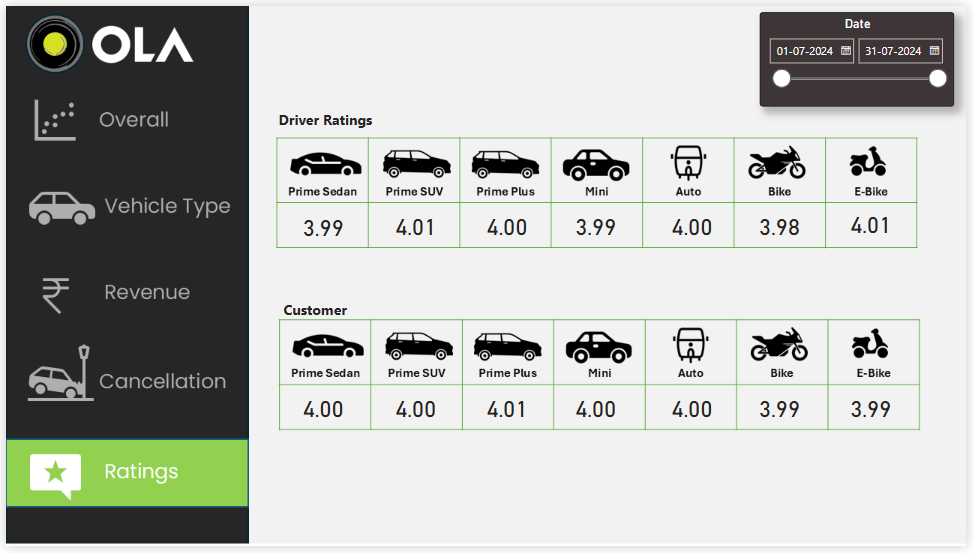

The page's visual inventory and layout, read from the dashboard file:
{"tool":"powerbi","page":{"name":"Ratings","canvas":[1280,720],"ordinal":4},"visuals":[{"type":"actionButton","box":[0,225.6,323.3,91.7],"z":0},{"type":"actionButton","box":[0,108.8,323.8,92.5],"z":1000},{"type":"actionButton","box":[0,340,323.8,92.5],"z":2000},{"type":"actionButton","box":[0,443.8,323.8,92.5],"z":3000},{"type":"card","fields":{"Values":["Avg(July.Driver_Ratings)"]},"box":[377,267.6,93.2,51.4],"z":4000},{"type":"card","fields":{"Values":["Avg(July.Driver_Ratings)"]},"box":[867.6,266.2,93.2,51.4],"z":5000},{"type":"card","fields":{"Values":["Avg(July.Driver_Ratings)"]},"box":[740.5,266.2,93.2,51.4],"z":6000},{"type":"card","fields":{"Values":["Avg(July.Driver_Ratings)"]},"box":[621.6,266.2,93.2,51.4],"z":7000},{"type":"card","fields":{"Values":["Avg(July.Driver_Ratings)"]},"box":[500,266.2,93.2,51.4],"z":8000},{"type":"card","fields":{"Values":["Avg(July.Driver_Ratings)"]},"box":[985.1,266.2,93.2,51.4],"z":9000},{"type":"card","fields":{"Values":["Avg(July.Driver_Ratings)"]},"box":[1106.8,264.9,93.2,51.4],"z":10000},{"type":"textbox","box":[358.1,133.8,177,44.6],"z":11000},{"type":"textbox","box":[364.9,386.5,118.9,39.2],"z":12000},{"type":"card","fields":{"Values":["Avg(July.Customer_Rating)"]},"box":[377,509.5,93.2,51.4],"z":13000},{"type":"card","fields":{"Values":["Avg(July.Customer_Rating)"]},"box":[500,509.5,93.2,51.4],"z":14000},{"type":"card","fields":{"Values":["Avg(July.Customer_Rating)"]},"box":[621.6,509.5,93.2,51.4],"z":15000},{"type":"card","fields":{"Values":["Avg(July.Customer_Rating)"]},"box":[740.5,509.5,93.2,51.4],"z":15001},{"type":"card","fields":{"Values":["Avg(July.Customer_Rating)"]},"box":[867.6,509.5,93.2,51.4],"z":15002},{"type":"card","fields":{"Values":["Avg(July.Customer_Rating)"]},"box":[985.1,509.5,93.2,51.4],"z":15003},{"type":"card","fields":{"Values":["Avg(July.Customer_Rating)"]},"box":[1106.8,509.5,93.2,51.4],"z":15004},{"type":"slicer","title":"Date","fields":{"Values":["July.Date"]},"box":[1005.4,8.1,259.5,125.7],"z":15005}]}

Visuals, with their boxes in screenshot pixels (x1, y1, x2, y2), scaled from the page's 1280x720 canvas onto the 973x553 screenshot:
actionButton: box=[0, 173, 246, 244]
actionButton: box=[0, 84, 246, 155]
actionButton: box=[0, 261, 246, 332]
actionButton: box=[0, 341, 246, 412]
card - Avg(July.Driver_Ratings): box=[287, 206, 357, 245]
card - Avg(July.Driver_Ratings): box=[660, 204, 730, 244]
card - Avg(July.Driver_Ratings): box=[563, 204, 634, 244]
card - Avg(July.Driver_Ratings): box=[473, 204, 543, 244]
card - Avg(July.Driver_Ratings): box=[380, 204, 451, 244]
card - Avg(July.Driver_Ratings): box=[749, 204, 820, 244]
card - Avg(July.Driver_Ratings): box=[841, 203, 912, 243]
textbox: box=[272, 103, 407, 137]
textbox: box=[277, 297, 368, 327]
card - Avg(July.Customer_Rating): box=[287, 391, 357, 431]
card - Avg(July.Customer_Rating): box=[380, 391, 451, 431]
card - Avg(July.Customer_Rating): box=[473, 391, 543, 431]
card - Avg(July.Customer_Rating): box=[563, 391, 634, 431]
card - Avg(July.Customer_Rating): box=[660, 391, 730, 431]
card - Avg(July.Customer_Rating): box=[749, 391, 820, 431]
card - Avg(July.Customer_Rating): box=[841, 391, 912, 431]
"Date" slicer: box=[764, 6, 962, 103]
